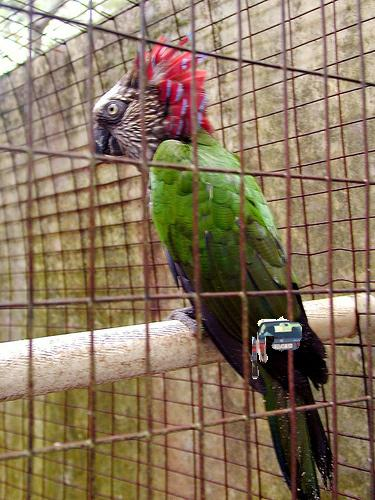tampered: (252, 317, 302, 379)
